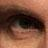eye: (20, 19, 31, 28)
